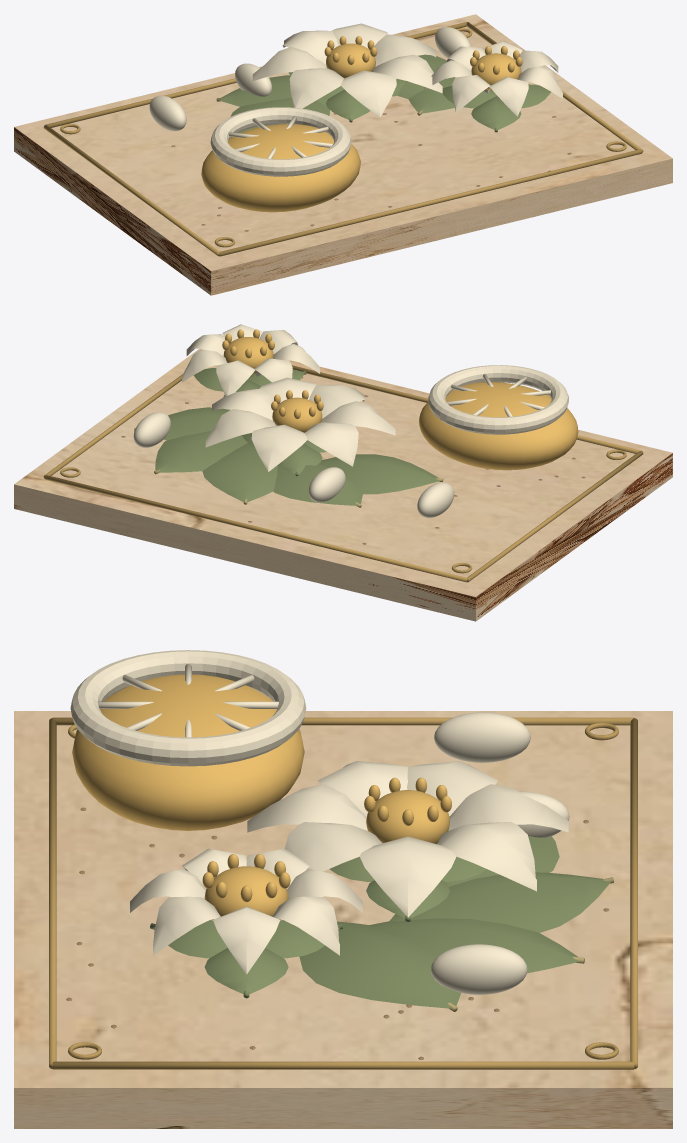
File: pure-citrus.glb
3 renders of one model, top to bottom at view 1: azimuth 30°, elevation 25°; view 2: azimuth 150°, elevation 25°; view 3: azimuth 270°, elevation 25°, orthographic. The views are drawn at different scales.
Visible parts, largest first — view 1: Handmade parchment card, Cut bergamot, Fruit rind, Gilt border.002, Jasmine blossom sculpted petal.005, Jasmine blossom sculpted petal.004, Jasmine blossom sculpted petal.006, Jasmine blossom sculpted petal.003, Gilt border.003, Jasmine blossom sculpted petal, Jasmine blossom heart, Gilt border (+21 smaller); view 2: Handmade parchment card, Cut bergamot, Fruit rind, Layered bergamot leaf.004, Layered bergamot leaf.002, Layered bergamot leaf.001, Gilt border.003, Layered bergamot leaf.003, Jasmine blossom sculpted petal.002, Jasmine blossom sculpted petal.003, Jasmine blossom sculpted petal.001, Layered bergamot leaf (+19 smaller); view 3: Handmade parchment card, Cut bergamot, Fruit rind, Layered bergamot leaf, Layered bergamot leaf.002, Layered bergamot leaf.001, Gilt border.001, Jasmine blossom sculpted petal, Jasmine blossom sculpted petal.001, Unopened jasmine bud, Unopened jasmine bud.001, Jasmine blossom sculpted petal.002 (+22 smaller).
Boxes of the visible parts, box(x1,y1,x2,y2) form: Handmade parchment card: box(14, 14, 672, 295); Cut bergamot: box(201, 124, 360, 212); Fruit rind: box(210, 107, 351, 176); Gilt border.002: box(219, 149, 642, 256); Jasmine blossom sculpted petal.005: box(341, 70, 396, 117); Jasmine blossom sculpted petal.004: box(289, 68, 343, 108); Jasmine blossom sculpted petal.006: box(372, 54, 442, 93); Jasmine blossom sculpted petal.003: box(252, 47, 326, 80); Gilt border.003: box(45, 22, 467, 127); Jasmine blossom sculpted petal: box(374, 34, 436, 66); Jasmine blossom heart: box(326, 43, 375, 78); Gilt border: box(43, 125, 219, 256); Handmade parchment card: box(14, 348, 672, 621); Cut bergamot: box(419, 382, 578, 470); Fruit rind: box(428, 365, 568, 434); Layered bergamot leaf.004: box(319, 454, 440, 494); Layered bergamot leaf.002: box(202, 443, 277, 502); Layered bergamot leaf.001: box(155, 431, 247, 472); Gilt border.003: box(44, 475, 467, 582); Layered bergamot leaf.003: box(273, 460, 362, 505); Jasmine blossom sculpted petal.002: box(251, 424, 307, 471); Jasmine blossom sculpted petal.003: box(305, 422, 358, 466); Jasmine blossom sculpted petal.001: box(205, 409, 276, 447); Layered bergamot leaf: box(163, 407, 229, 440); Handmade parchment card: box(14, 711, 672, 1128); Cut bergamot: box(72, 674, 304, 830); Fruit rind: box(70, 650, 306, 766); Layered bergamot leaf: box(299, 921, 461, 1008); Layered bergamot leaf.002: box(389, 872, 610, 932); Layered bergamot leaf.001: box(369, 918, 579, 973); Gilt border.001: box(52, 1061, 634, 1069); Jasmine blossom sculpted petal: box(359, 836, 456, 917); Jasmine blossom sculpted petal.001: box(436, 822, 536, 891); Unopened jasmine bud: box(434, 712, 530, 762); Unopened jasmine bud.001: box(430, 944, 527, 994); Jasmine blossom sculpted petal.002: box(448, 784, 568, 832).
Size of the model in its own units: 2.76 by 0.587 by 2.04.
7 materials, 1 textured.
